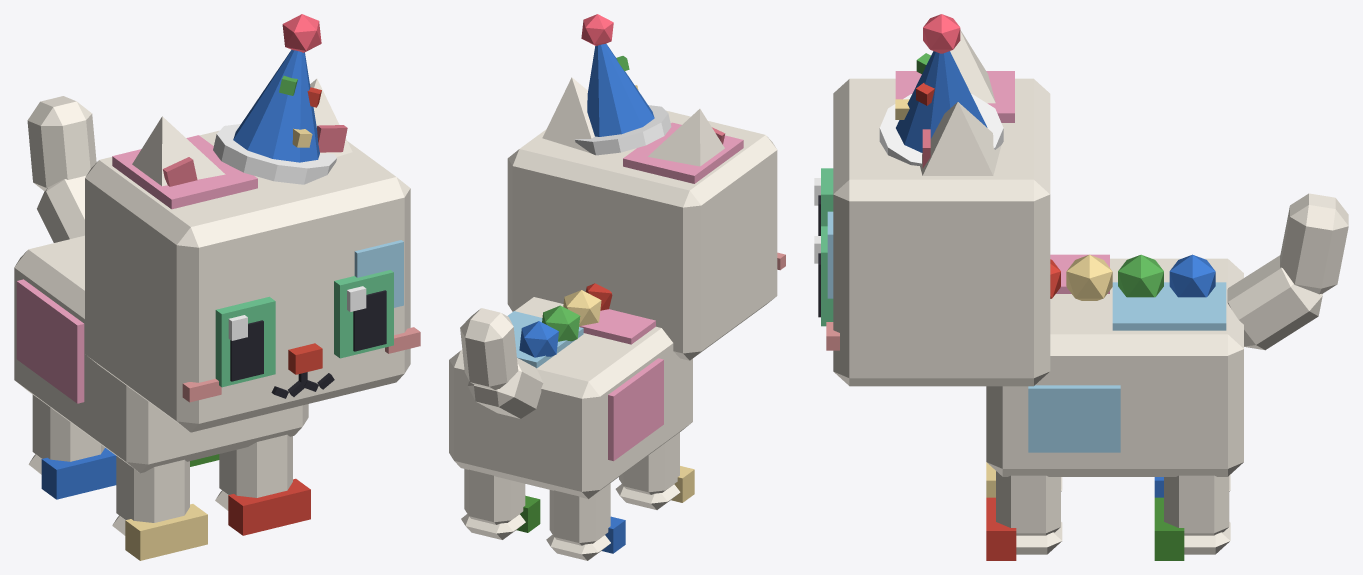
File: CatCafe_Cat_Clown.glb
The picture shows the model from 3 angles, left to right: view 1: azimuth 30°, elevation 25°; view 2: azimuth 150°, elevation 25°; view 3: azimuth 270°, elevation 25°; orthographic projection. The views are drawn at different scales.
Parts seen in each view (by area): view 1: CatCafe_Cat_Clown_Head, CatCafe_Cat_Clown_Body, CatCafe_Cat_Clown_Prop, CatCafe_Cat_Clown_Tail, CatCafe_Cat_Clown_LegF2, CatCafe_Cat_Clown_LegF1, CatCafe_Cat_Clown_LegB2, CatCafe_Cat_Clown_Eye2, CatCafe_Cat_Clown_Eye1, CatCafe_Cat_Clown_EarR, CatCafe_Cat_Clown_EarL, CatCafe_Cat_Clown_Pom_Glow; view 2: CatCafe_Cat_Clown_Head, CatCafe_Cat_Clown_Body, CatCafe_Cat_Clown_Tail, CatCafe_Cat_Clown_Prop, CatCafe_Cat_Clown_LegB2, CatCafe_Cat_Clown_LegB1, CatCafe_Cat_Clown_LegF2, CatCafe_Cat_Clown_Prop2, CatCafe_Cat_Clown_EarR, CatCafe_Cat_Clown_EarL, CatCafe_Cat_Clown_Pom_Glow; view 3: CatCafe_Cat_Clown_Head, CatCafe_Cat_Clown_Body, CatCafe_Cat_Clown_Tail, CatCafe_Cat_Clown_Prop, CatCafe_Cat_Clown_LegB1, CatCafe_Cat_Clown_LegF1, CatCafe_Cat_Clown_Prop2, CatCafe_Cat_Clown_EarL, CatCafe_Cat_Clown_EarR, CatCafe_Cat_Clown_Eye1, CatCafe_Cat_Clown_Pom_Glow, CatCafe_Cat_Clown_Eye2.
Part boxes in pixels (x1=…): CatCafe_Cat_Clown_Head: x1=85, y1=130, x2=420, y2=432; CatCafe_Cat_Clown_Body: x1=14, y1=235, x2=308, y2=473; CatCafe_Cat_Clown_Prop: x1=213, y1=49, x2=336, y2=184; CatCafe_Cat_Clown_Tail: x1=27, y1=96, x2=96, y2=242; CatCafe_Cat_Clown_LegF2: x1=112, y1=456, x2=207, y2=560; CatCafe_Cat_Clown_LegF1: x1=215, y1=434, x2=310, y2=535; CatCafe_Cat_Clown_LegB2: x1=28, y1=394, x2=116, y2=499; CatCafe_Cat_Clown_Eye2: x1=215, y1=296, x2=275, y2=387; CatCafe_Cat_Clown_Eye1: x1=334, y1=270, x2=393, y2=358; CatCafe_Cat_Clown_EarR: x1=132, y1=116, x2=225, y2=186; CatCafe_Cat_Clown_EarL: x1=310, y1=78, x2=352, y2=156; CatCafe_Cat_Clown_Pom_Glow: x1=282, y1=14, x2=321, y2=52; CatCafe_Cat_Clown_Head: x1=507, y1=110, x2=785, y2=360; CatCafe_Cat_Clown_Body: x1=449, y1=297, x2=692, y2=498; CatCafe_Cat_Clown_Tail: x1=460, y1=308, x2=543, y2=418; CatCafe_Cat_Clown_Prop: x1=574, y1=43, x2=671, y2=155; CatCafe_Cat_Clown_LegB2: x1=546, y1=483, x2=625, y2=560; CatCafe_Cat_Clown_LegB1: x1=461, y1=469, x2=540, y2=539; CatCafe_Cat_Clown_LegF2: x1=615, y1=432, x2=694, y2=509; CatCafe_Cat_Clown_Prop2: x1=519, y1=283, x2=612, y2=357; CatCafe_Cat_Clown_EarR: x1=647, y1=109, x2=725, y2=166; CatCafe_Cat_Clown_EarL: x1=542, y1=77, x2=594, y2=152; CatCafe_Cat_Clown_Pom_Glow: x1=581, y1=14, x2=613, y2=45; CatCafe_Cat_Clown_Head: x1=826, y1=71, x2=1050, y2=386; CatCafe_Cat_Clown_Body: x1=986, y1=254, x2=1243, y2=476; CatCafe_Cat_Clown_Tail: x1=1227, y1=193, x2=1348, y2=350; CatCafe_Cat_Clown_Prop: x1=879, y1=51, x2=1003, y2=165; CatCafe_Cat_Clown_LegB1: x1=1154, y1=475, x2=1230, y2=560; CatCafe_Cat_Clown_LegF1: x1=986, y1=471, x2=1062, y2=560; CatCafe_Cat_Clown_Prop2: x1=1050, y1=254, x2=1215, y2=300; CatCafe_Cat_Clown_EarL: x1=920, y1=102, x2=1001, y2=175; CatCafe_Cat_Clown_EarR: x1=950, y1=30, x2=995, y2=103; CatCafe_Cat_Clown_Eye1: x1=814, y1=226, x2=833, y2=326; CatCafe_Cat_Clown_Pom_Glow: x1=923, y1=14, x2=960, y2=53; CatCafe_Cat_Clown_Eye2: x1=814, y1=168, x2=833, y2=235.
Bounding box in the file's own units: 1 × 2.17 × 1.97.
Materials: 1 (1 with a texture image).
